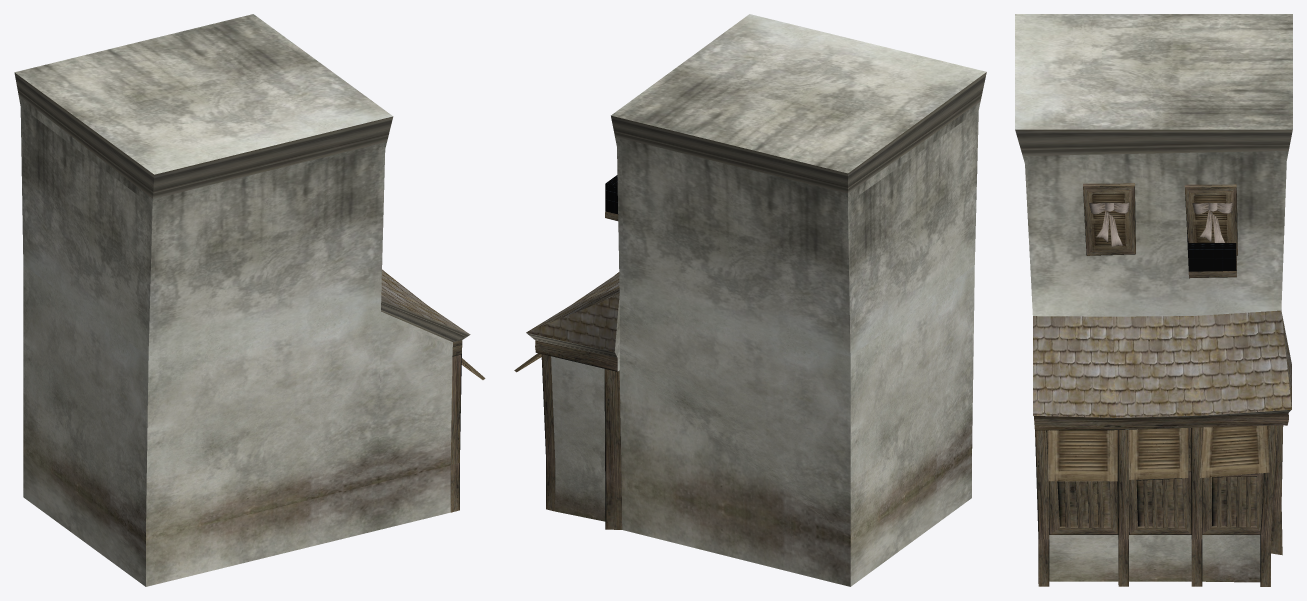
The model's file is english_e.fbx.
3 views of the same model, side by side, from view 1: azimuth 30°, elevation 25°; view 2: azimuth 150°, elevation 25°; view 3: azimuth 270°, elevation 25° (orthographic).
Visible parts, largest first — view 1: building_shell; view 2: building_shell; view 3: building_shell, shutters2, shutters1, shutters3, window2, building_shell3, building_shell2, building_shell1, window1, railing, building_shell8.
Boxes of the visible parts, x1,y1,x2,y2 form: building_shell: (14, 14, 470, 586); building_shell: (526, 14, 986, 586); building_shell: (1015, 14, 1292, 586); shutters2: (1048, 430, 1117, 481); shutters1: (1199, 425, 1269, 477); shutters3: (1129, 428, 1188, 479); window2: (1083, 183, 1135, 255); building_shell3: (1049, 481, 1118, 534); building_shell2: (1129, 471, 1191, 534); building_shell1: (1202, 473, 1263, 534); window1: (1184, 184, 1237, 255); railing: (1187, 230, 1236, 271); building_shell8: (1217, 476, 1250, 527).
Bounding box in the file's own units: 3903 × 4522 × 2708.
3 materials, 3 textured.
